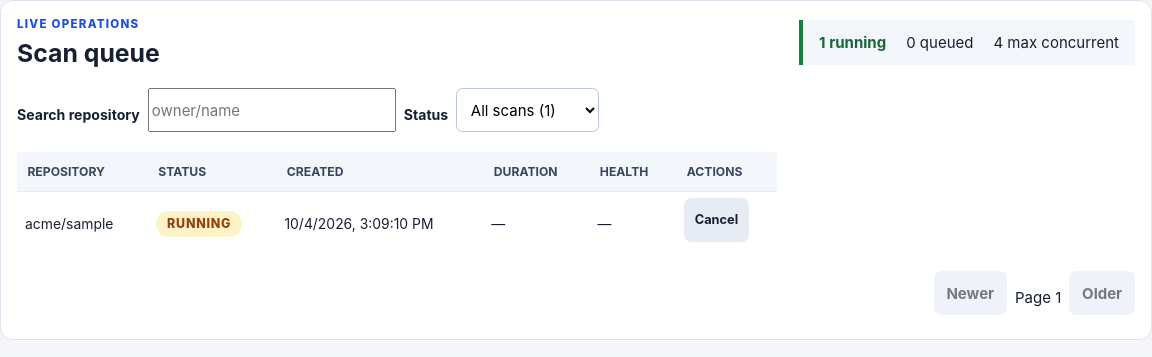
Test case: scan queue dashboard › confirms cancellation for active queue rows
Click the button "Cancel": (716, 220) left=684, top=198, right=749, bottom=242
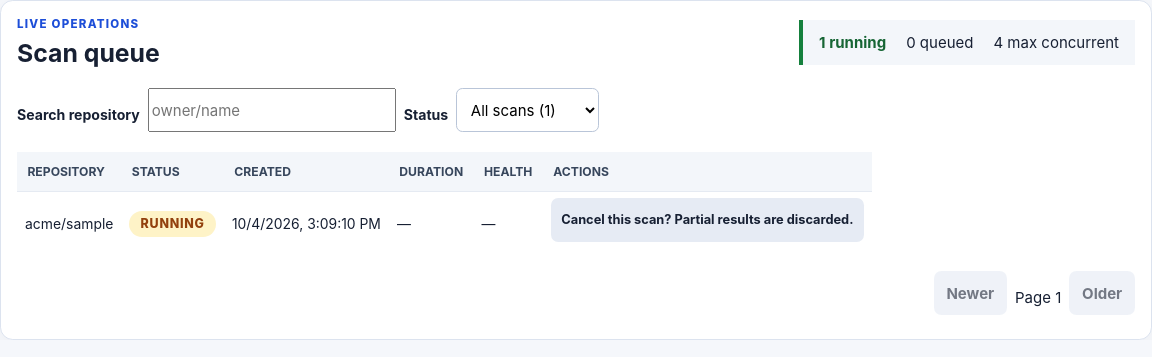
Click the button "Cancel this scan? Partial results are discarded.": (707, 220) left=551, top=198, right=864, bottom=242
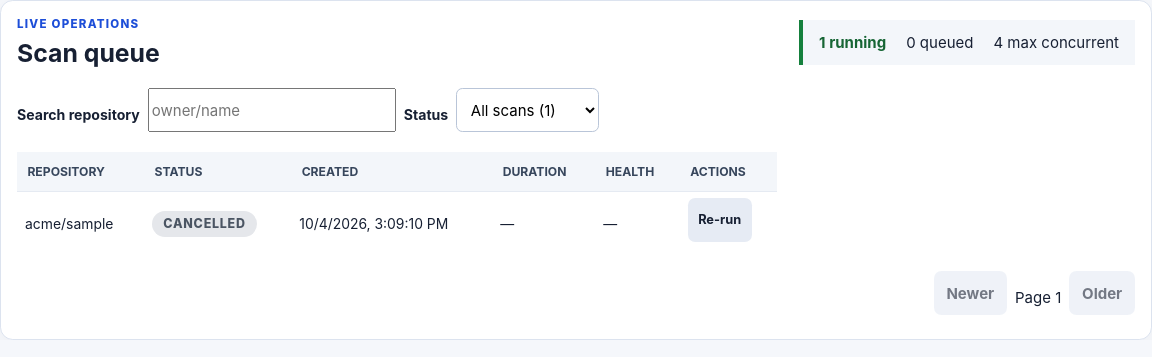
Now the text "CANCELLED" is shown, box left=152, top=211, right=257, bottom=237
